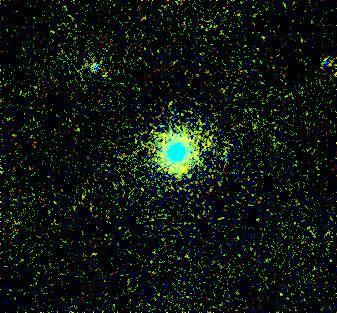star: (171, 154, 201, 184)
